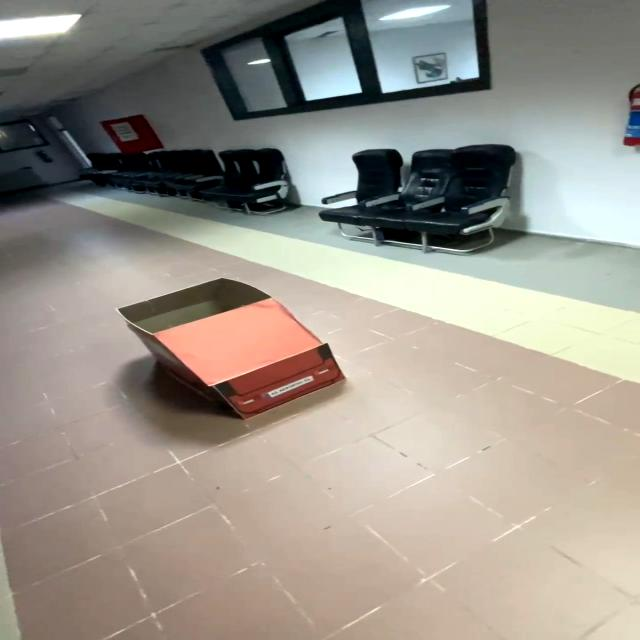red_car: (68, 258, 402, 438)
